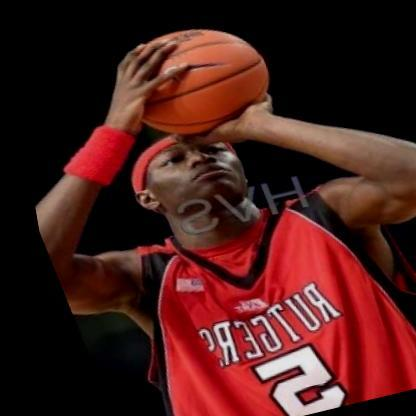basketball: (95, 10, 288, 149)
